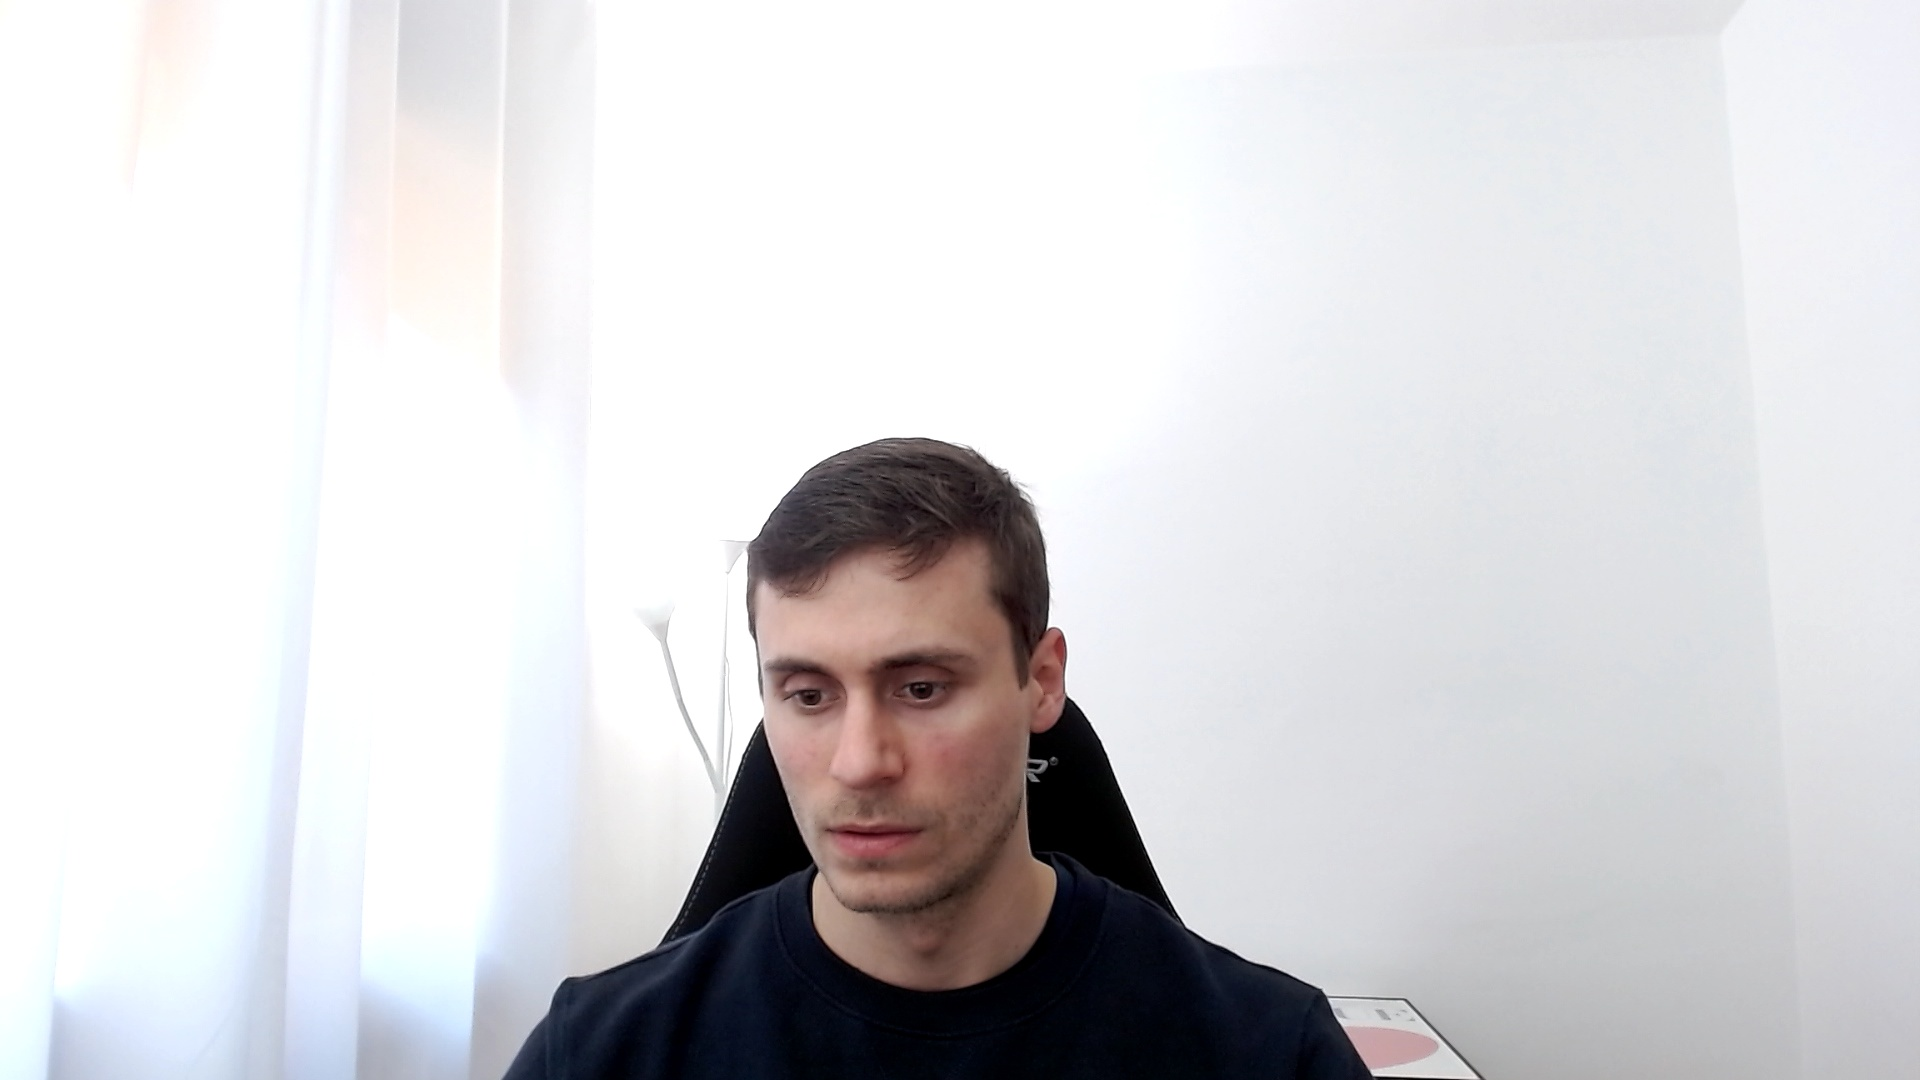No-mask: (748, 437, 1067, 912)
